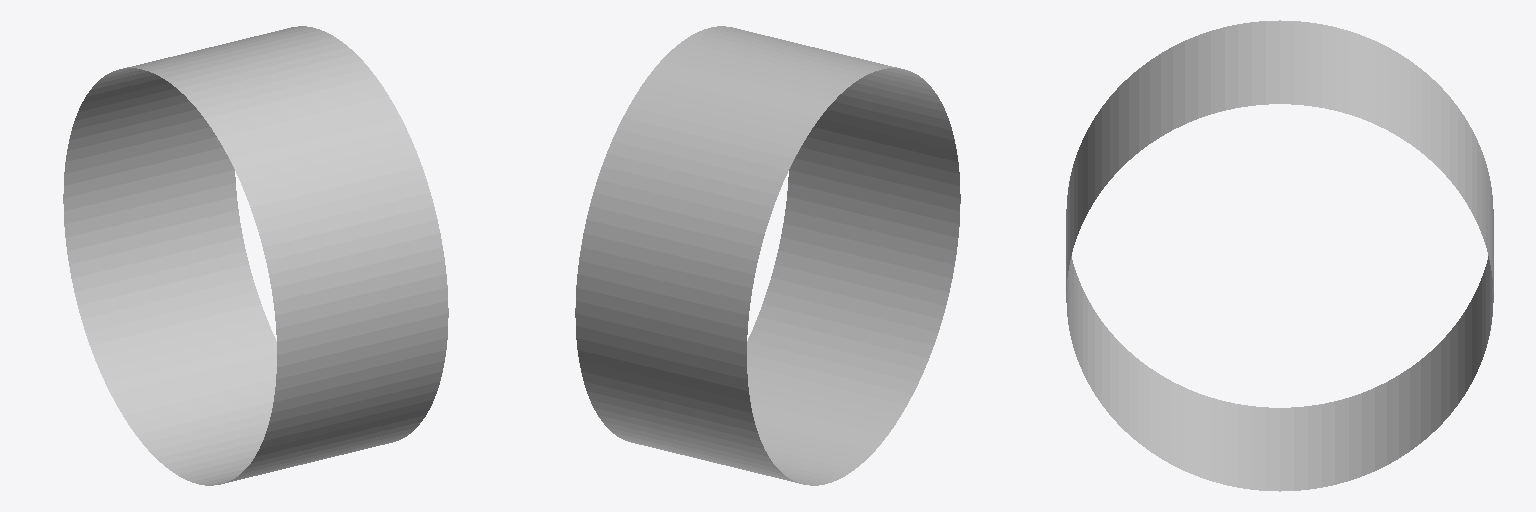
File: WheelShape.obj
3 renders of one model, left to right at view 1: azimuth 30°, elevation 25°; view 2: azimuth 150°, elevation 25°; view 3: azimuth 270°, elevation 25°, orthographic.
Visible parts, largest first — view 1: SketchUp; view 2: SketchUp; view 3: SketchUp.
Part boxes in pixels (bbox=[...]): SketchUp: bbox=[63, 26, 448, 485]; SketchUp: bbox=[575, 26, 960, 485]; SketchUp: bbox=[1066, 20, 1493, 491].
Bounding box in the file's own units: 0.0461 × 0.0994 × 0.0994.